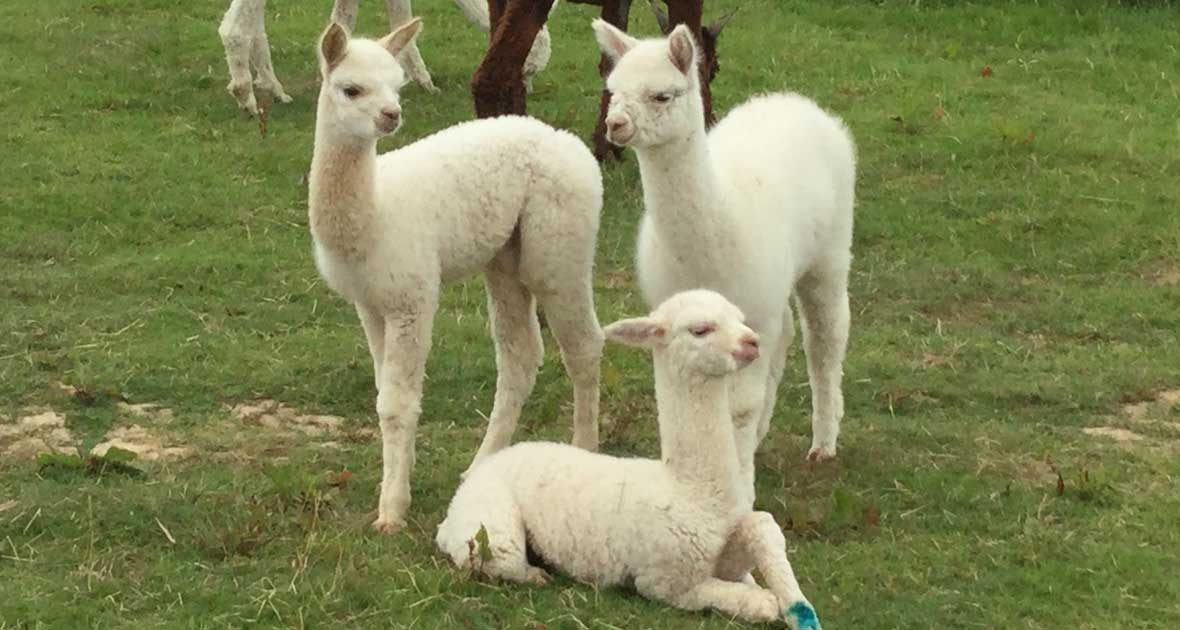alpaca: (306, 13, 603, 529), (436, 289, 821, 630), (589, 15, 859, 460)
